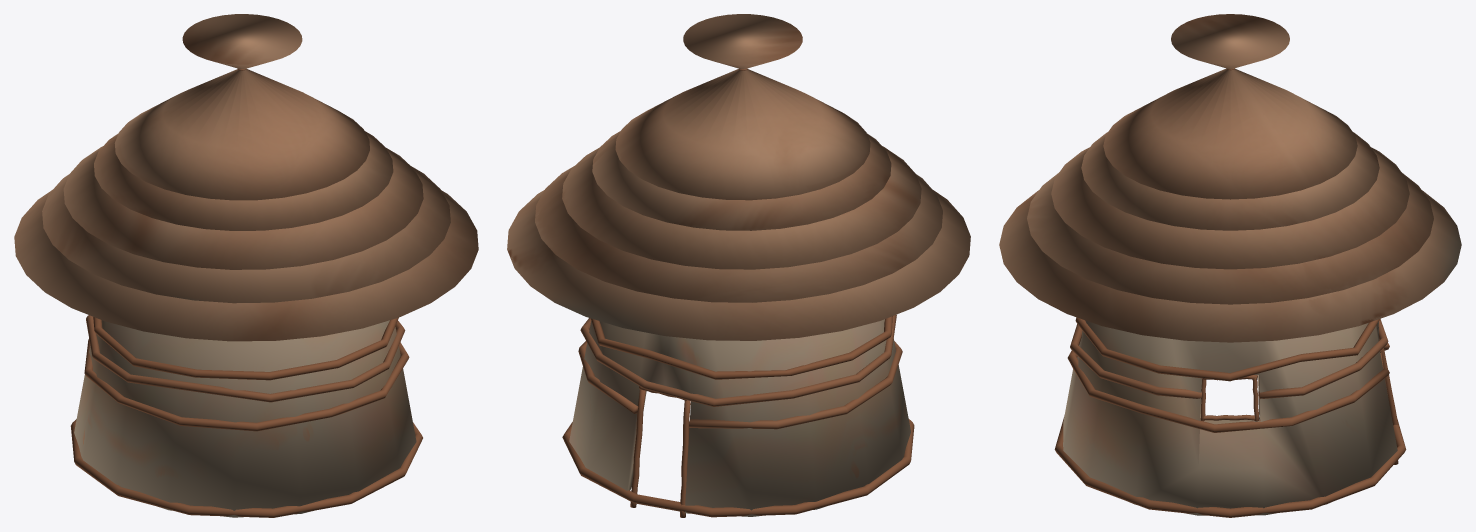
File: cabana.fbx
3 renders of one model, left to right at view 1: azimuth 30°, elevation 25°; view 2: azimuth 150°, elevation 25°; view 3: azimuth 270°, elevation 25°, orthographic.
Parts seen in each view (by area): view 1: Cylinder.005; view 2: Cylinder.005; view 3: Cylinder.005.
Part boxes in pixels (x1,y1,x2,y2): Cylinder.005: (14, 14, 478, 517); Cylinder.005: (507, 14, 970, 517); Cylinder.005: (999, 14, 1461, 517).
Bounding box in the file's own units: 320 × 314 × 320.
